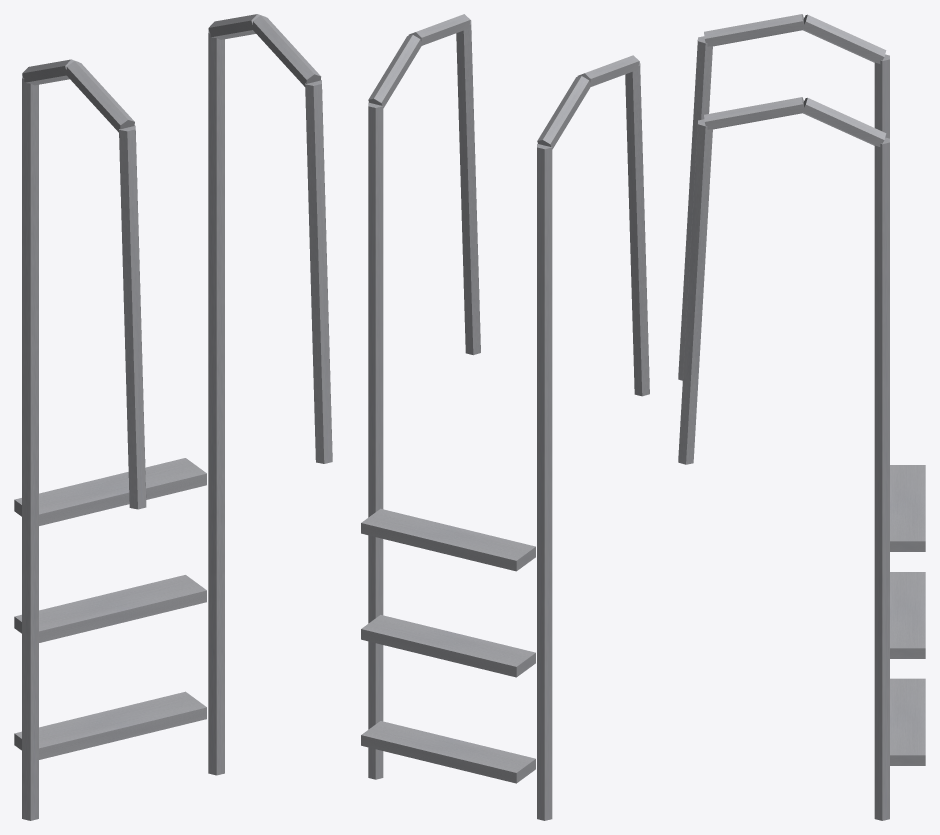
Rendered from Pool_Ladder.fbx.
The picture shows the model from 3 angles, left to right: view 1: azimuth 30°, elevation 25°; view 2: azimuth 150°, elevation 25°; view 3: azimuth 270°, elevation 25°; orthographic projection. The views are drawn at different scales.
Visible parts, largest first — view 1: Pool_Ladder; view 2: Pool_Ladder; view 3: Pool_Ladder.
Boxes of the visible parts, left/top/right/bottom form: Pool_Ladder: left=14, top=14, right=332, bottom=820; Pool_Ladder: left=361, top=14, right=649, bottom=820; Pool_Ladder: left=678, top=14, right=925, bottom=820.
Size of the model in its own units: 0.545 by 2.02 by 0.6295.
